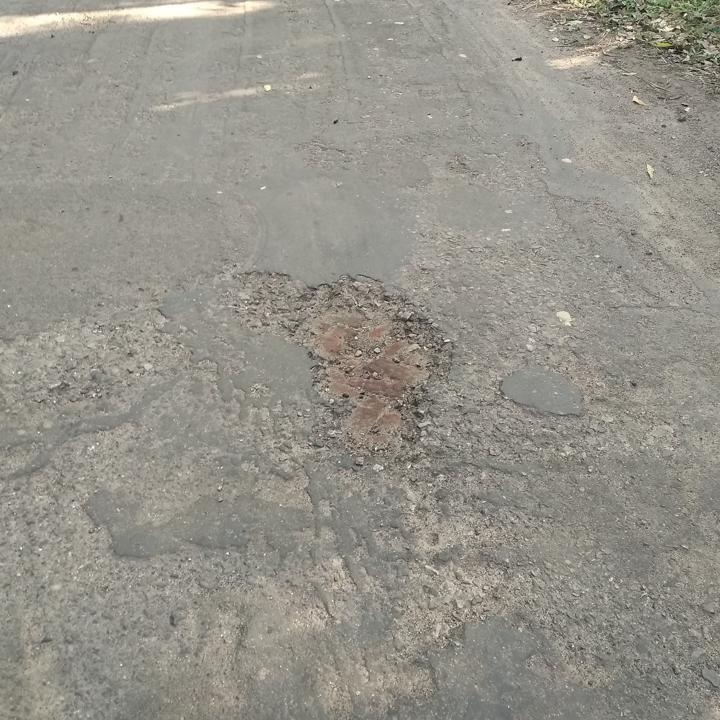pothole: (226, 264, 456, 463)
